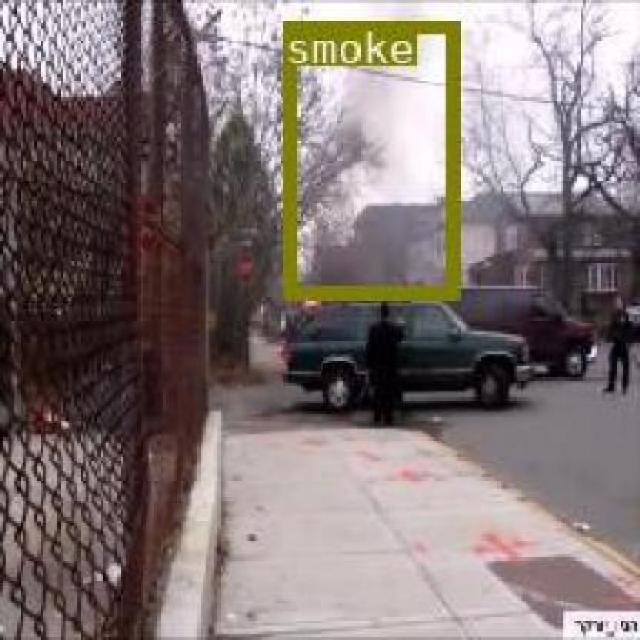Smoke: (280, 18, 456, 296)
